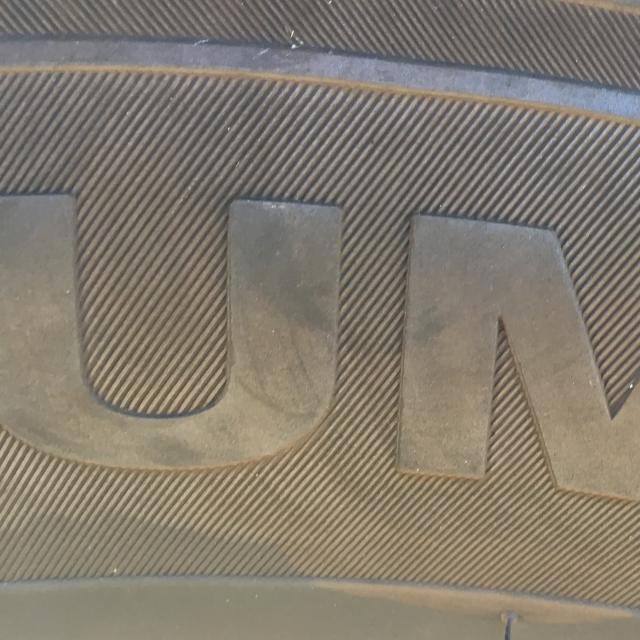Non-defective: (0, 5, 640, 639)
